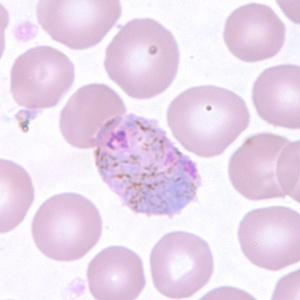Infected: (95, 112, 202, 219)
Uninfected: (167, 83, 250, 157), (104, 18, 180, 98), (32, 192, 103, 261), (58, 81, 126, 151), (227, 132, 295, 201), (10, 44, 76, 109), (151, 231, 214, 299), (36, 0, 123, 49), (238, 207, 300, 271), (222, 2, 284, 63), (88, 245, 146, 300), (253, 64, 300, 129)
